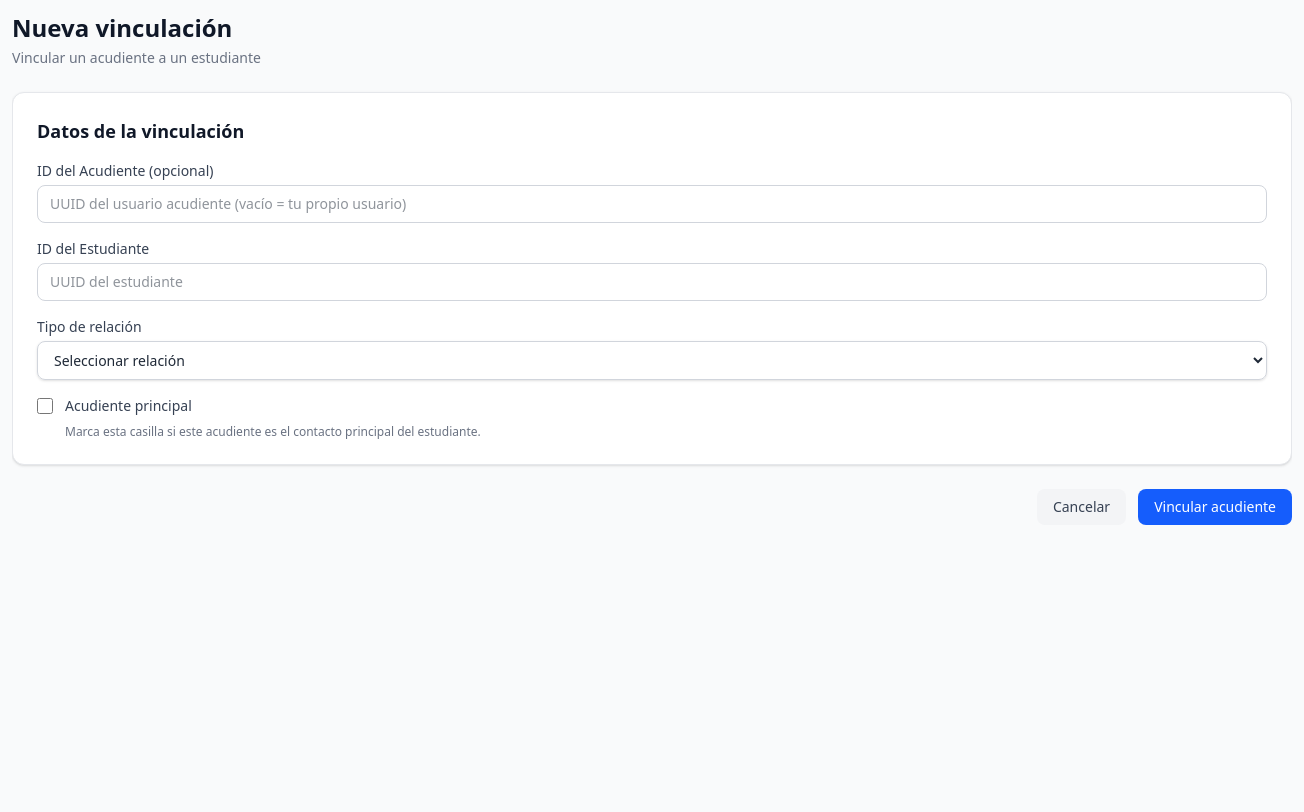
Scenario: GuardiansFormPage › validates required student ID
Click the button "Vincular acudiente": (1215, 507) x1=1138 y1=489 x2=1292 y2=525
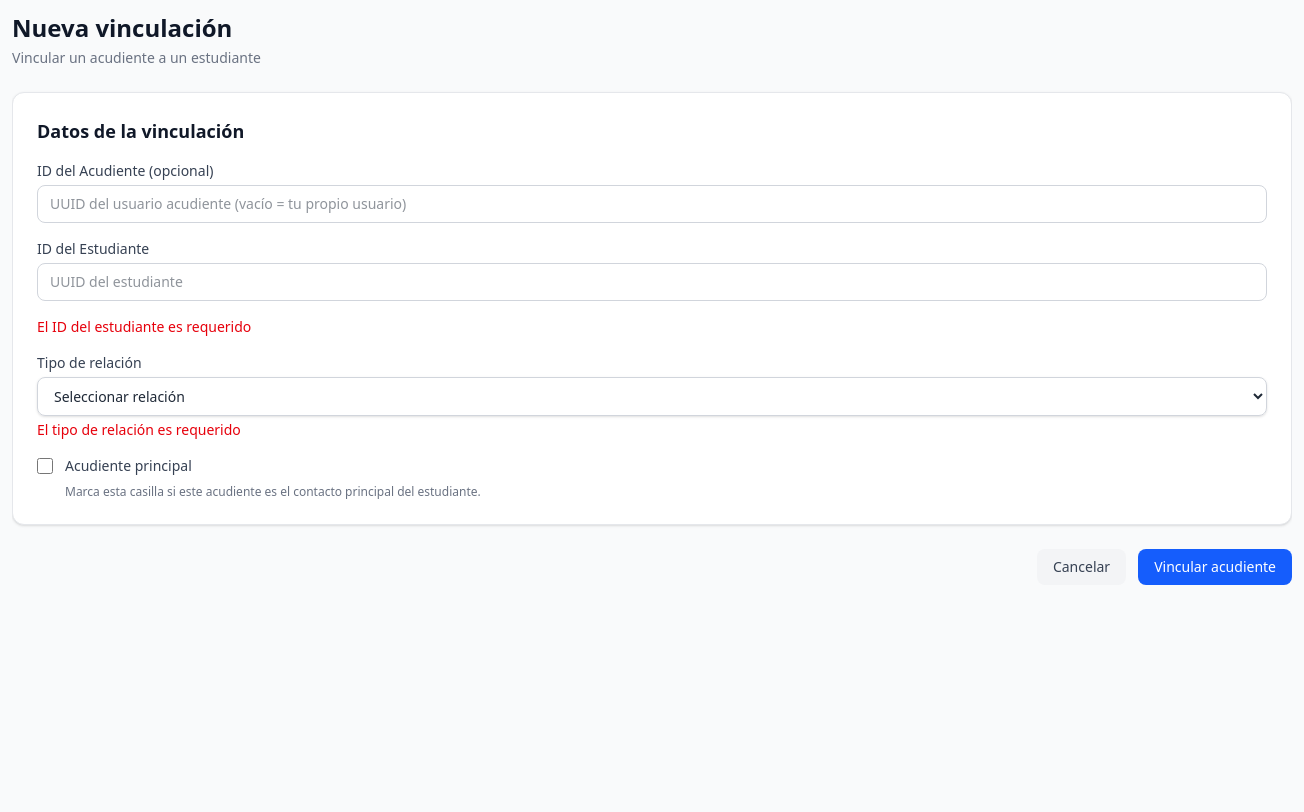
Expected: the text "El ID del estudiante es requerido" is shown, x1=37 y1=317 x2=251 y2=336
